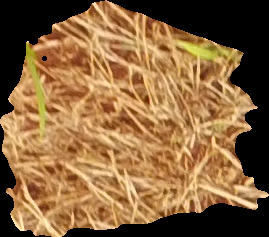soil: (2, 2, 269, 234)
